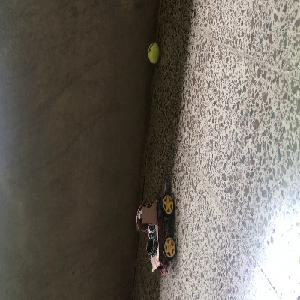Ball: (148, 42, 159, 63)
Robot: (136, 178, 177, 274)
